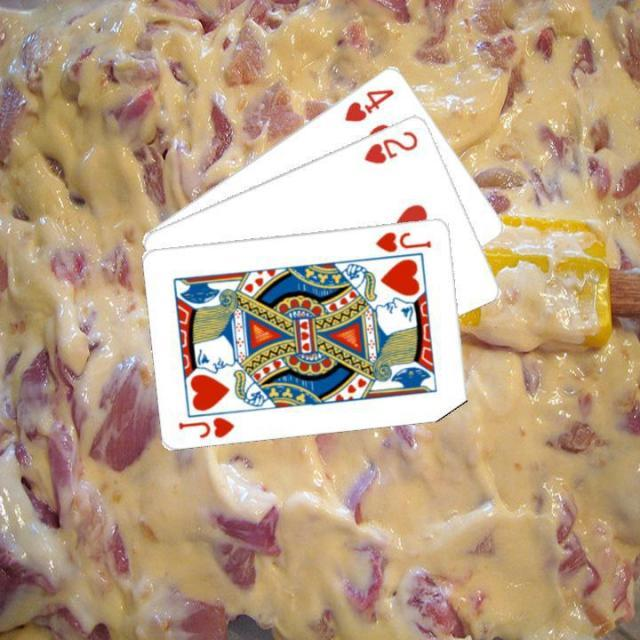2H: (360, 126, 420, 166)
4H: (341, 84, 396, 124)
JH: (371, 226, 433, 254), (176, 412, 237, 440)
